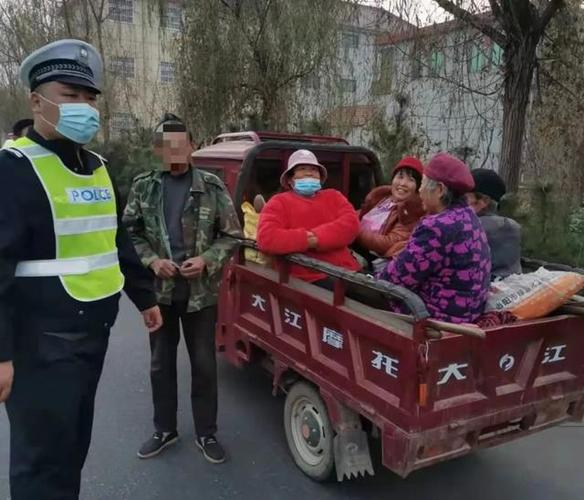driver: (123, 101, 236, 479)
overloading: (159, 91, 584, 481)
passenger: (400, 163, 494, 352), (262, 145, 374, 287), (376, 160, 428, 275)
